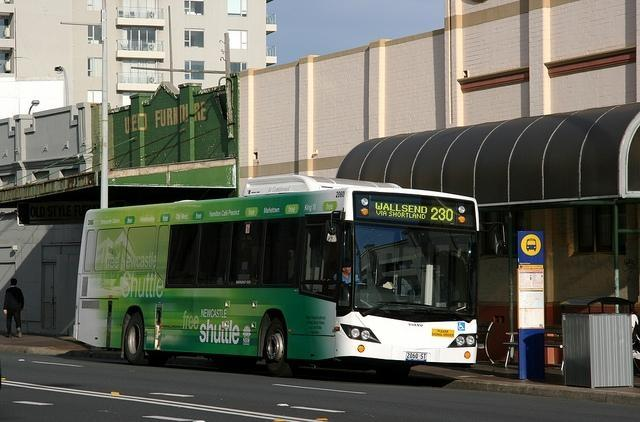bus: (69, 178, 478, 366)
